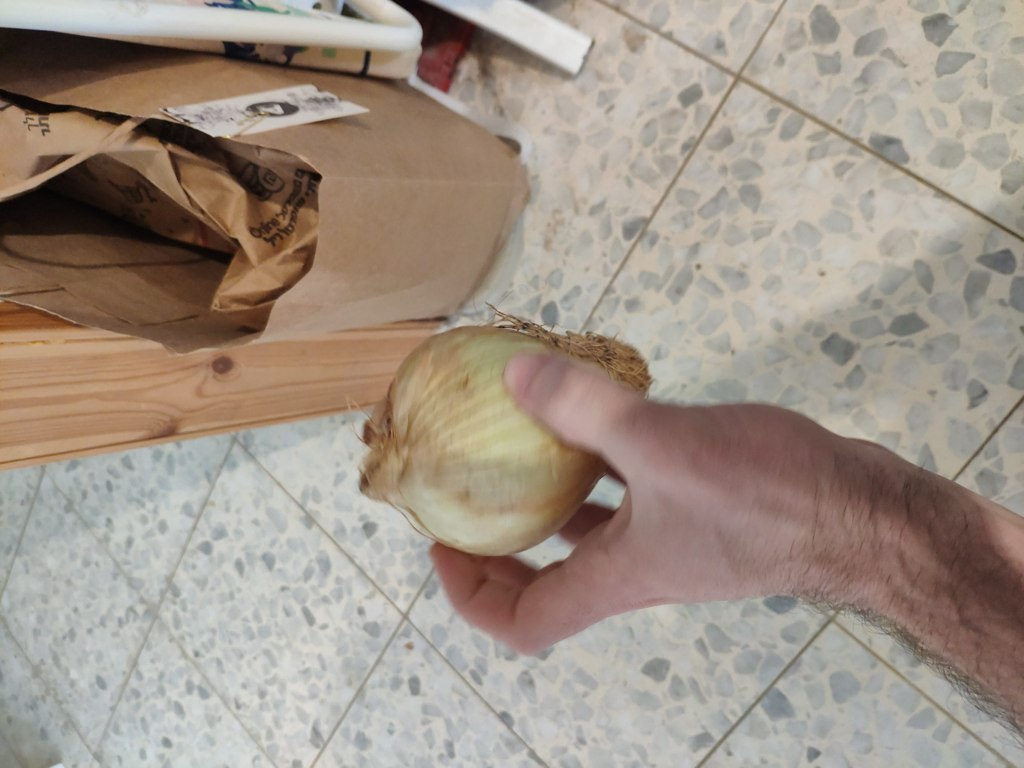Onion: (350, 311, 650, 572)
